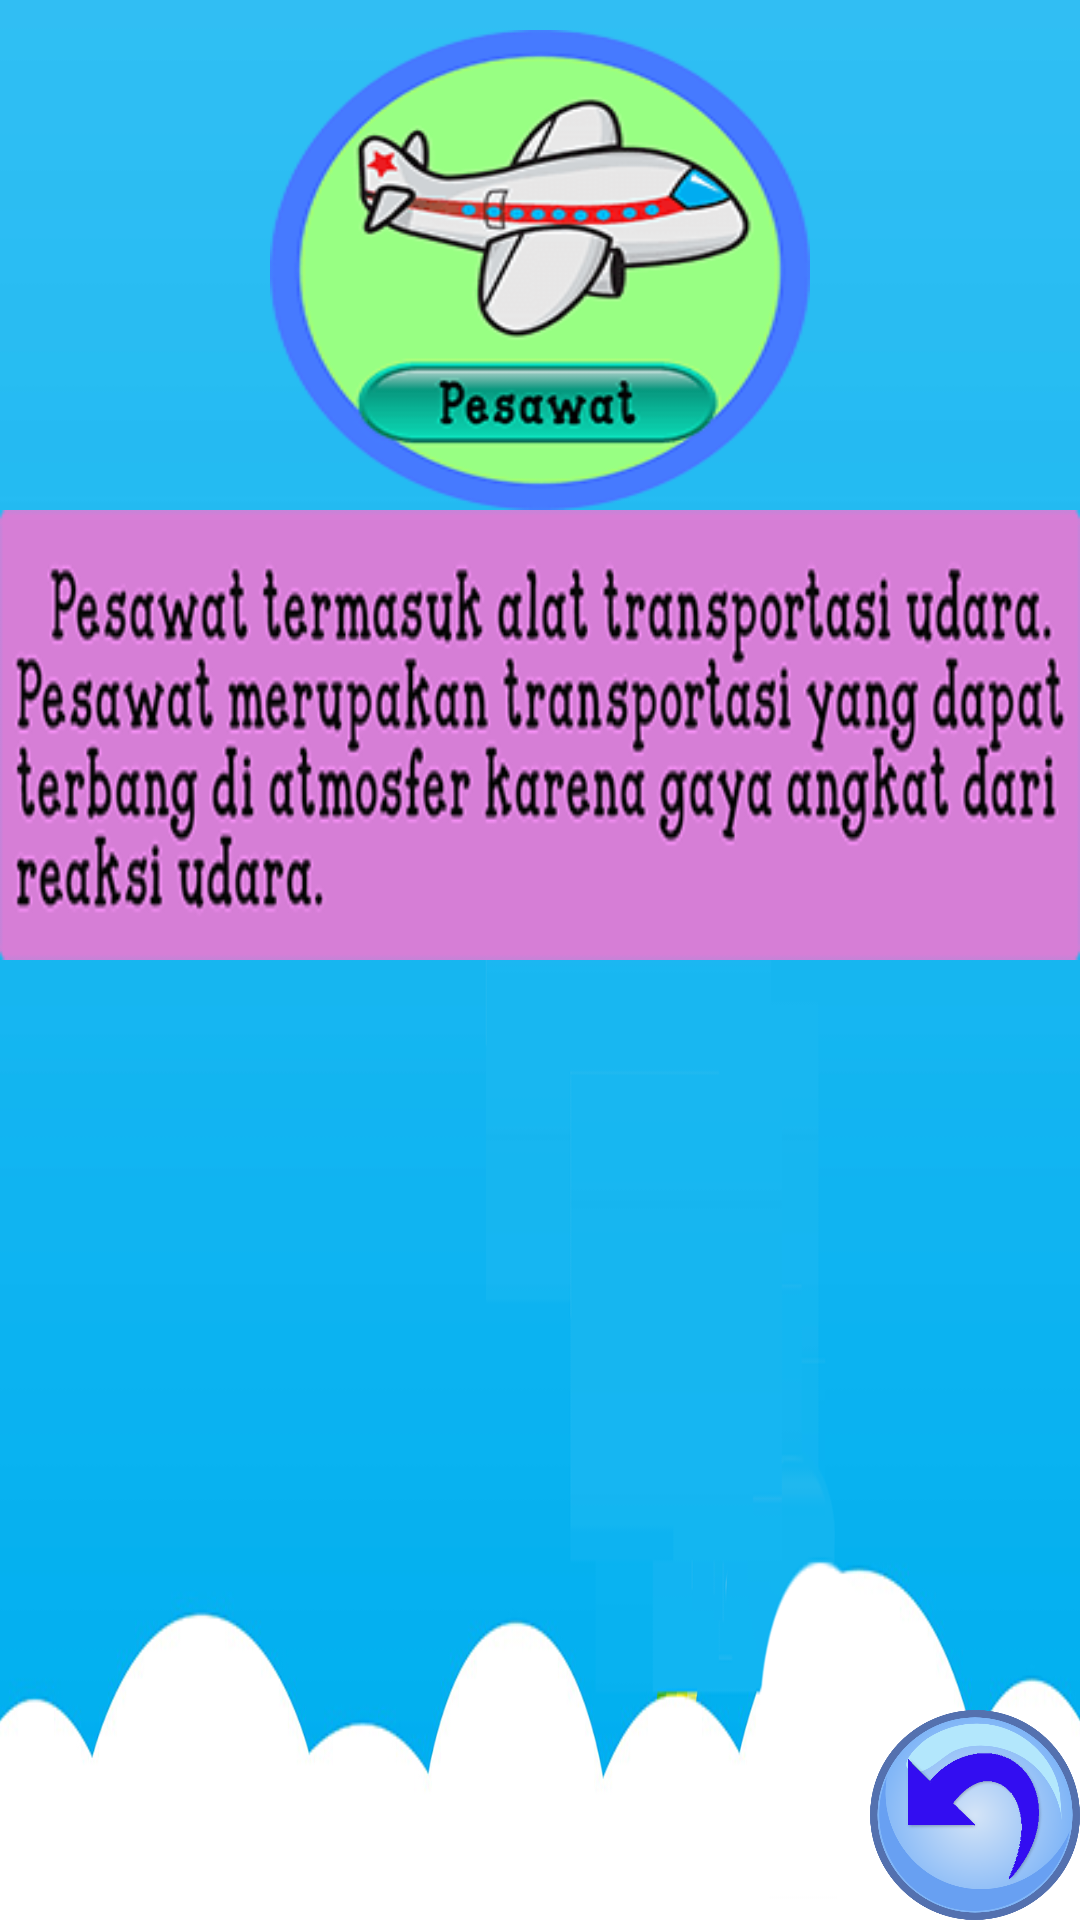

Locate icon controls on the screen. Image size 1080px x 1920px, boxes as (left=x1, top=y1, right=x2, bottom=y2).
back: (left=870, top=1710, right=1080, bottom=1920)
